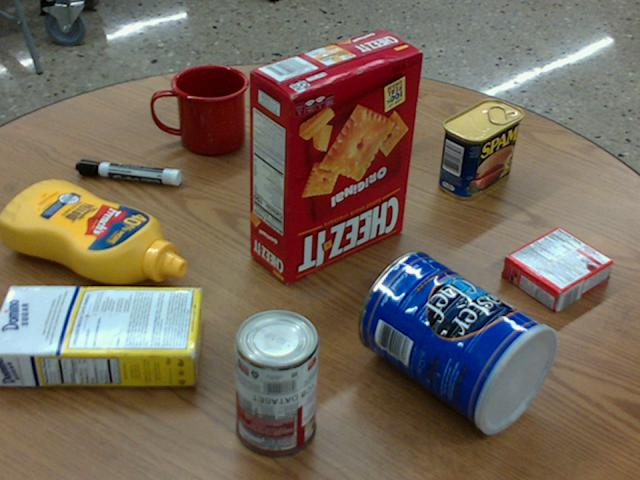cracker_box: (247, 27, 423, 284)
gelatin_box: (501, 225, 612, 310)
large_marker: (76, 160, 180, 184)
master_chef_can: (359, 250, 560, 433)
mug: (151, 65, 248, 156)
mustard_bottle: (0, 178, 186, 284)
potted_meat_can: (439, 98, 522, 200)
sugar_box: (0, 283, 202, 386)
tomato_soup_can: (235, 307, 321, 455)
tuna_fish_can: (321, 79, 391, 153)
